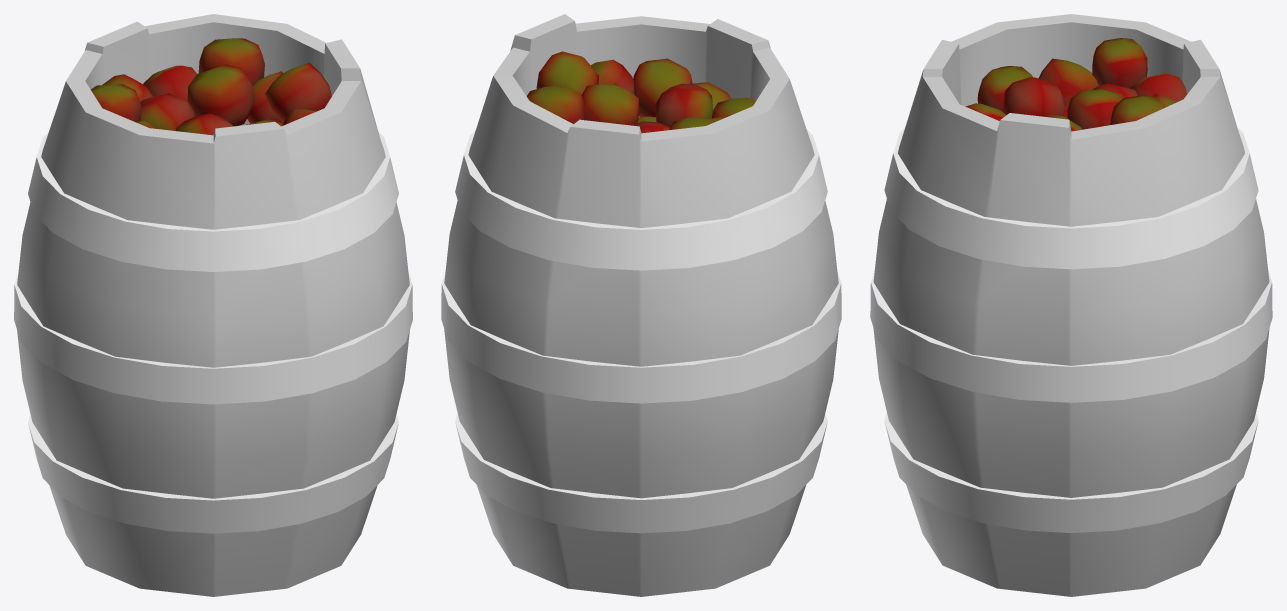
File: barrel_apples.glb
3 views of the same model, side by side, from view 1: azimuth 30°, elevation 25°; view 2: azimuth 150°, elevation 25°; view 3: azimuth 270°, elevation 25° (orthographic).
Visible parts, largest first — view 1: Barrel_Apples; view 2: Barrel_Apples; view 3: Barrel_Apples.
Part boxes in pixels (x1,y1,x2,y2): Barrel_Apples: (14, 14, 412, 596); Barrel_Apples: (441, 14, 841, 596); Barrel_Apples: (870, 14, 1272, 596).
Size of the model in its own units: 0.698 by 0.898 by 0.698.
